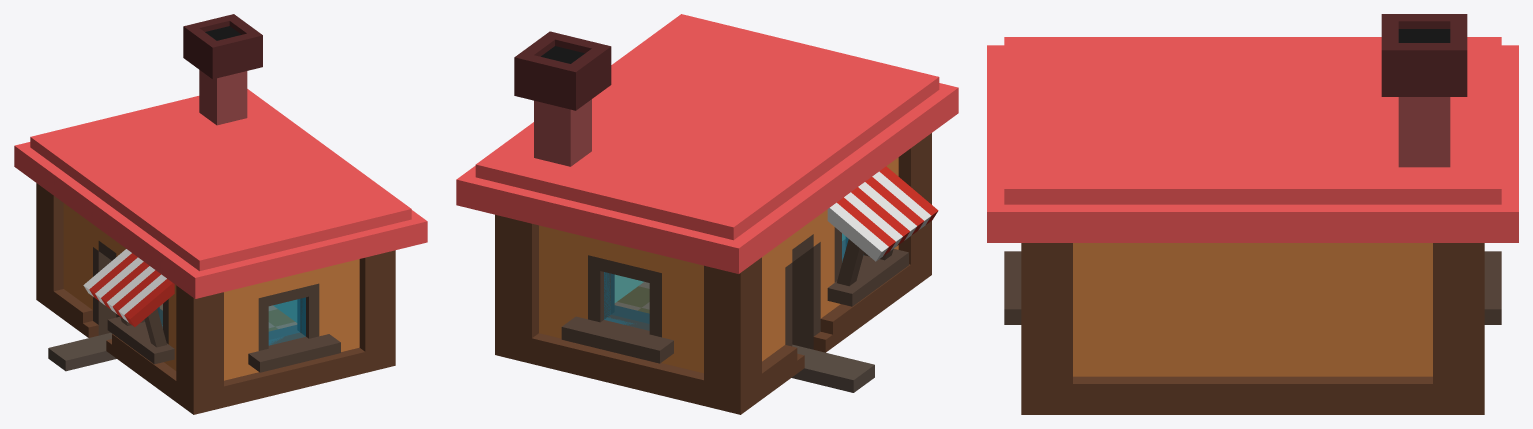
File: pho-nha-nen-3.glb
3 renders of one model, left to right at view 1: azimuth 30°, elevation 25°; view 2: azimuth 150°, elevation 25°; view 3: azimuth 270°, elevation 25°, orthographic. The views are drawn at different scales.
Parts seen in each view (by area): view 1: pho-nha-nen-3; view 2: pho-nha-nen-3; view 3: pho-nha-nen-3.
Boxes of the visible parts, box(x1,y1,x2,y2) form: pho-nha-nen-3: box(14, 14, 427, 414); pho-nha-nen-3: box(456, 14, 958, 414); pho-nha-nen-3: box(987, 14, 1518, 414).
Size of the model in its own units: 26 by 24 by 31.
